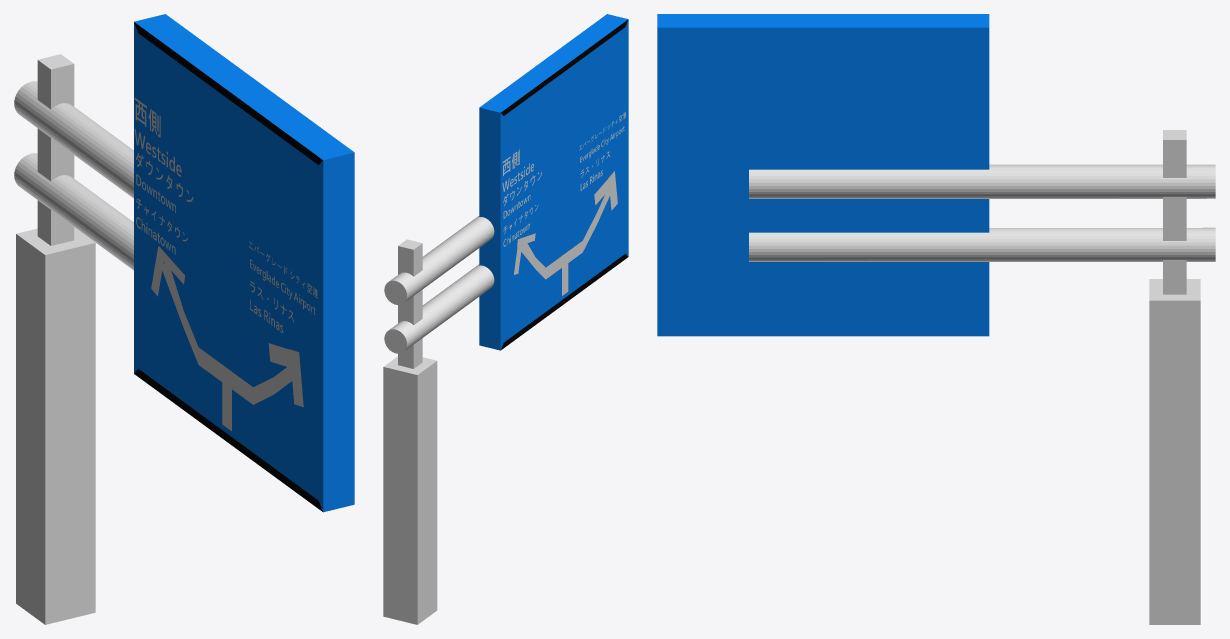
The model's file is japantown_sign_14.fbx.
The picture shows the model from 3 angles, left to right: view 1: azimuth 30°, elevation 25°; view 2: azimuth 150°, elevation 25°; view 3: azimuth 270°, elevation 25°; orthographic projection. The views are drawn at different scales.
Parts seen in each view (by area): view 1: Cube.003, Cube, Cylinder, Cylinder.001, Plane.001, Plane.006, Plane, Plane.005; view 2: Cube.003, Cube, Cylinder.001, Cylinder, Plane.001, Plane.006; view 3: Cube.003, Cube, Cylinder, Cylinder.001.
Part boxes in pixels (bbox=[...]): Cube.003: bbox=[134, 14, 354, 512]; Cube: bbox=[16, 54, 95, 624]; Cylinder: bbox=[14, 81, 133, 198]; Cylinder.001: bbox=[14, 153, 133, 270]; Plane.001: bbox=[162, 259, 222, 381]; Plane.006: bbox=[231, 367, 292, 404]; Plane: bbox=[222, 365, 231, 431]; Plane.005: bbox=[268, 343, 298, 369]; Cube.003: bbox=[479, 14, 628, 350]; Cube: bbox=[383, 239, 437, 624]; Cylinder.001: bbox=[384, 264, 494, 353]; Cylinder: bbox=[384, 216, 494, 304]; Plane.001: bbox=[521, 239, 561, 279]; Plane.006: bbox=[567, 189, 609, 263]; Cube.003: bbox=[657, 14, 989, 336]; Cube: bbox=[1149, 130, 1200, 624]; Cylinder: bbox=[749, 164, 1215, 198]; Cylinder.001: bbox=[749, 227, 1215, 261].
Size of the model in its own units: 6.54 by 76.11 by 65.5.
